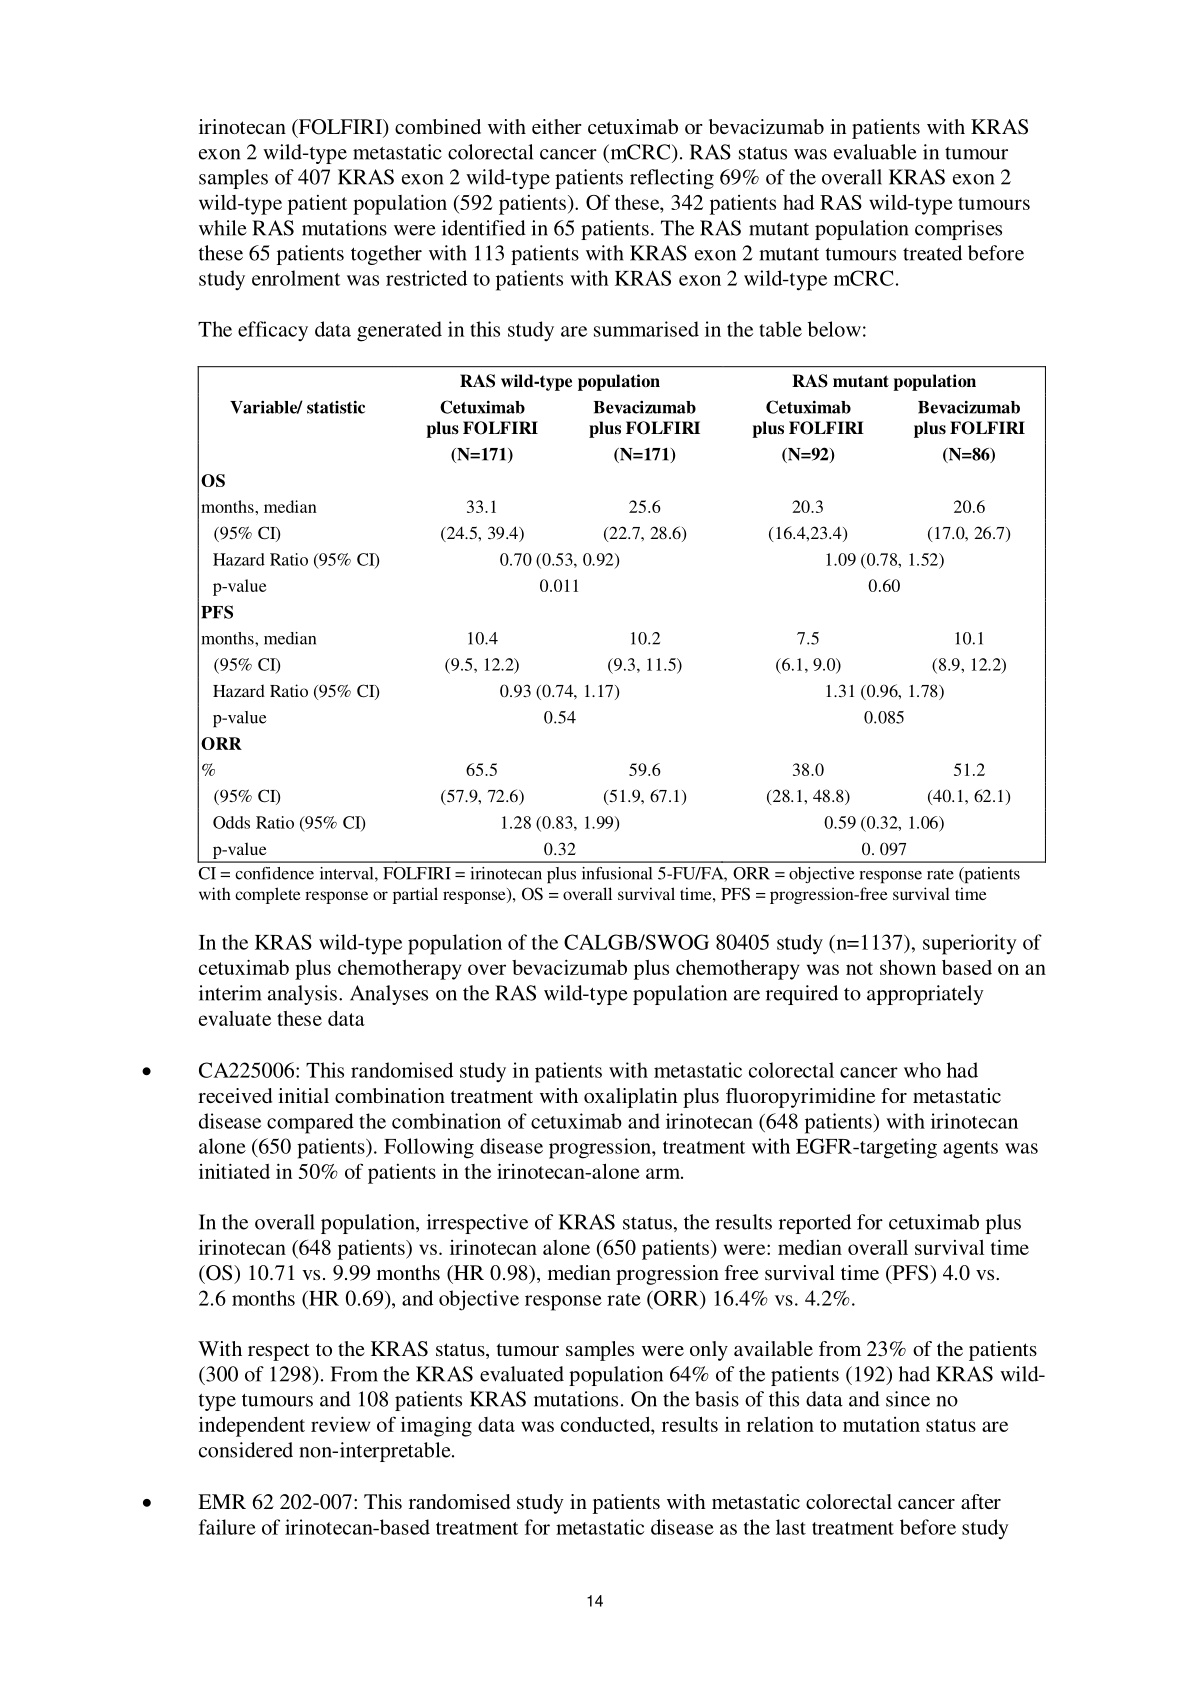partial_lined_merged_cells: (197, 365, 1048, 865)
